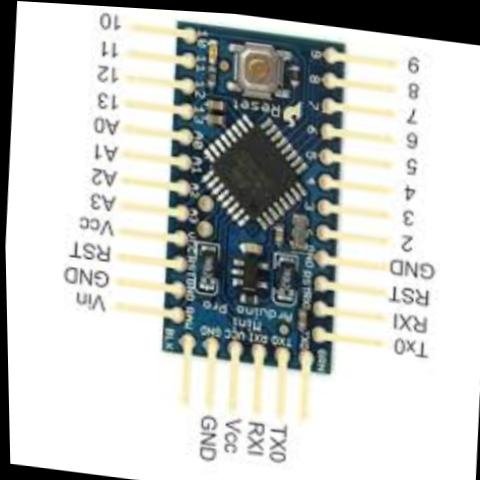Arduino-Pro-Mini: (125, 6, 371, 454)
